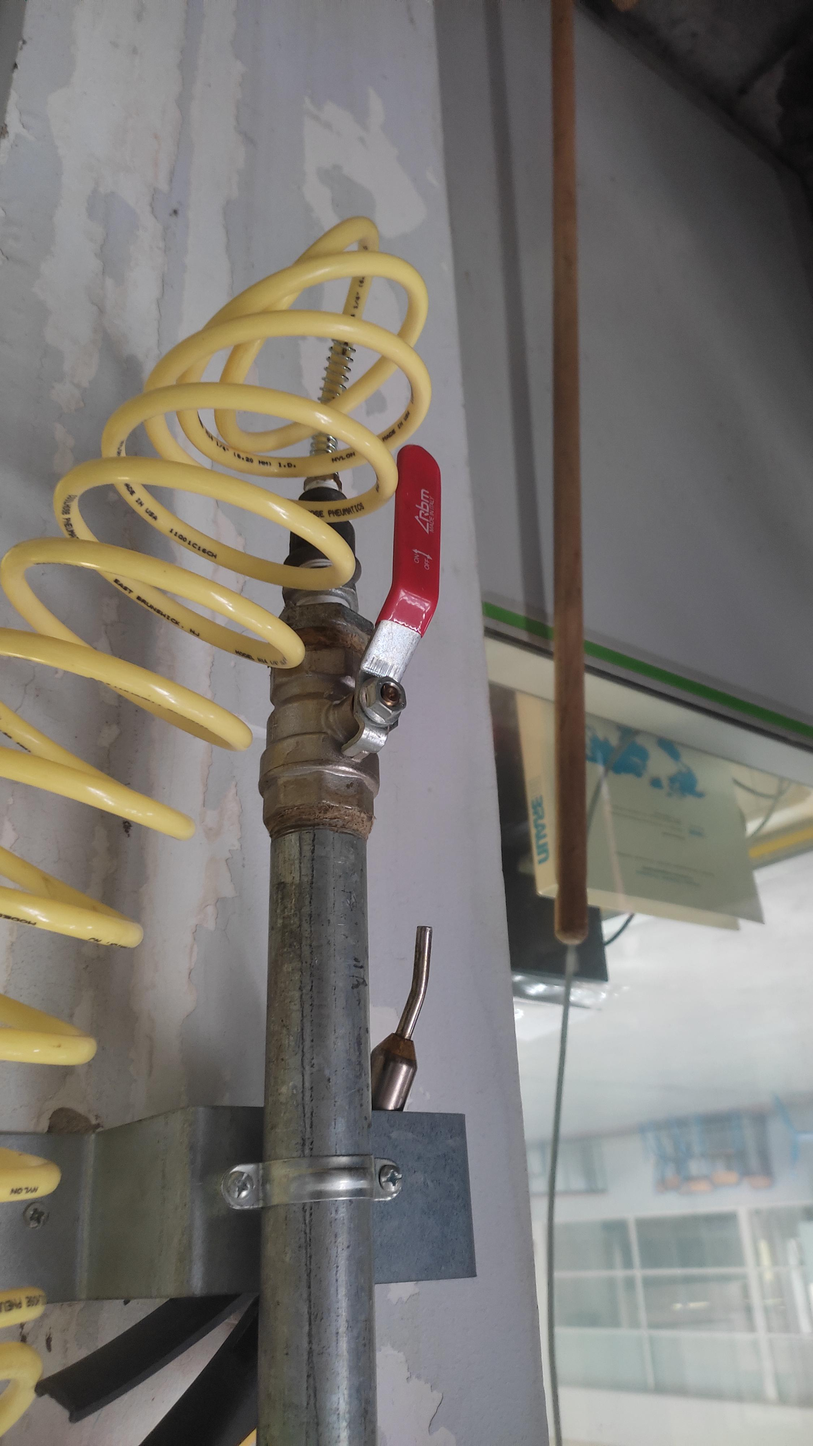opened valve: (255, 441, 446, 828)
